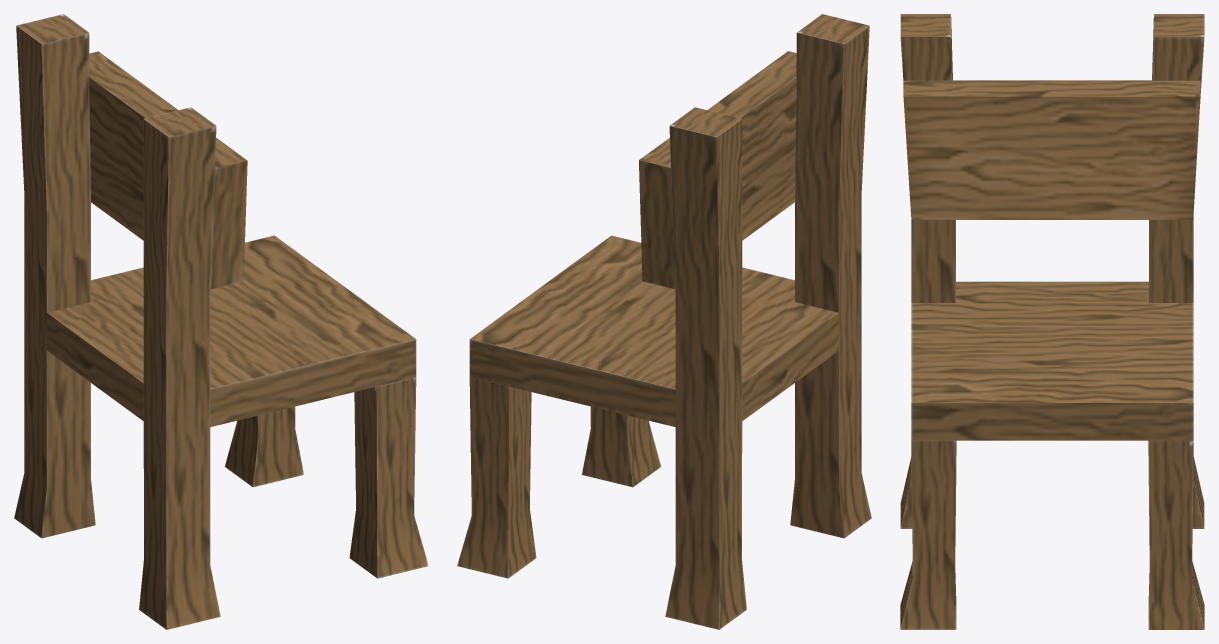
Rendered from chair.fbx.
3 renders of one model, left to right at view 1: azimuth 30°, elevation 25°; view 2: azimuth 150°, elevation 25°; view 3: azimuth 270°, elevation 25°, orthographic.
Parts seen in each view (by area): view 1: chair; view 2: chair; view 3: chair.
Boxes of the visible parts, x1,y1,x2,y2 form: chair: [14, 14, 428, 629]; chair: [457, 14, 871, 629]; chair: [900, 14, 1204, 629].
Size of the model in its own units: 0.7944 by 1.43 by 0.8025.
Materials: 1 (1 with a texture image).
